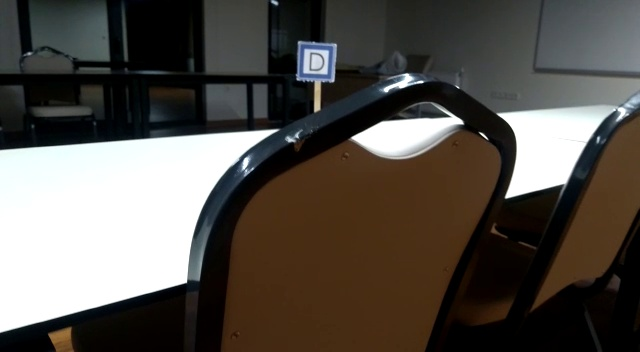durak: (296, 40, 335, 80)
